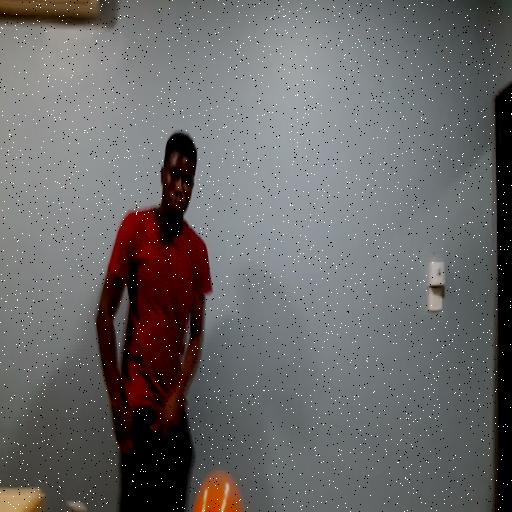plastic-ball: (190, 466, 248, 512)
